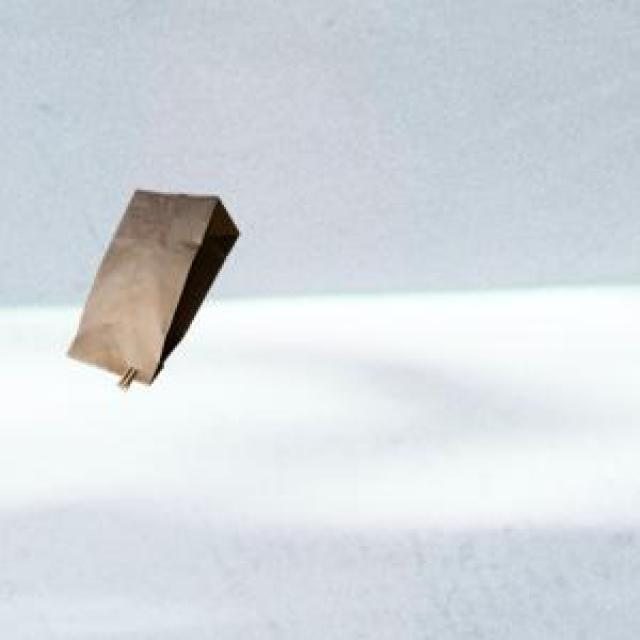paper: (64, 186, 235, 384)
